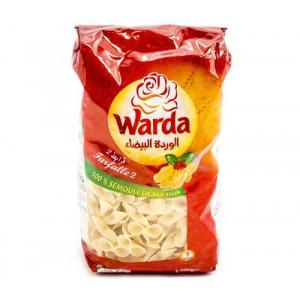Papillon: (69, 27, 225, 274)
